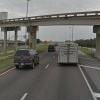Bridge: (2, 9, 96, 39)
